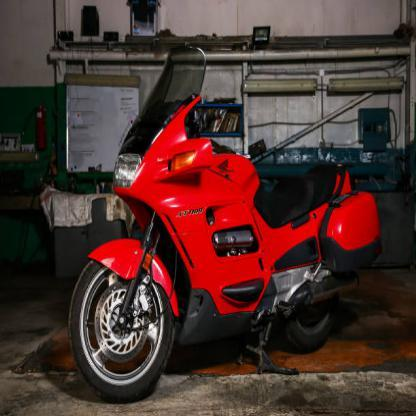Motorcycle: (65, 46, 373, 407)
